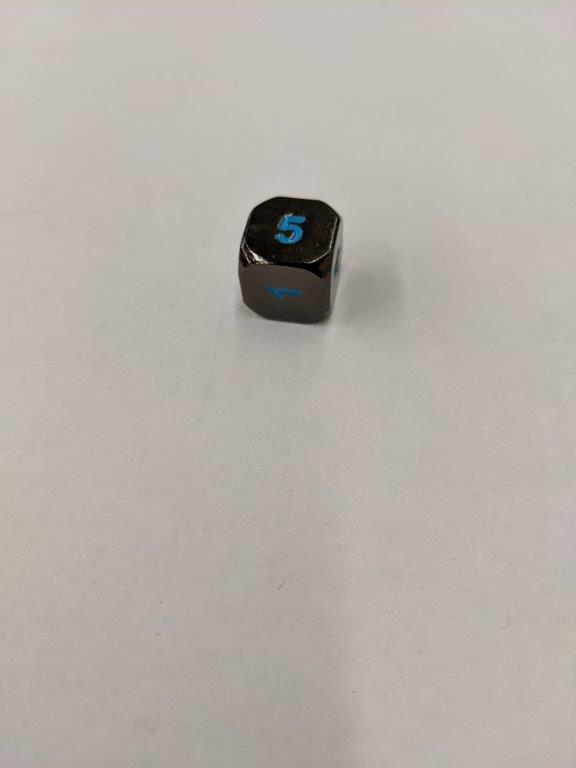d6-5: (236, 195, 343, 324)
